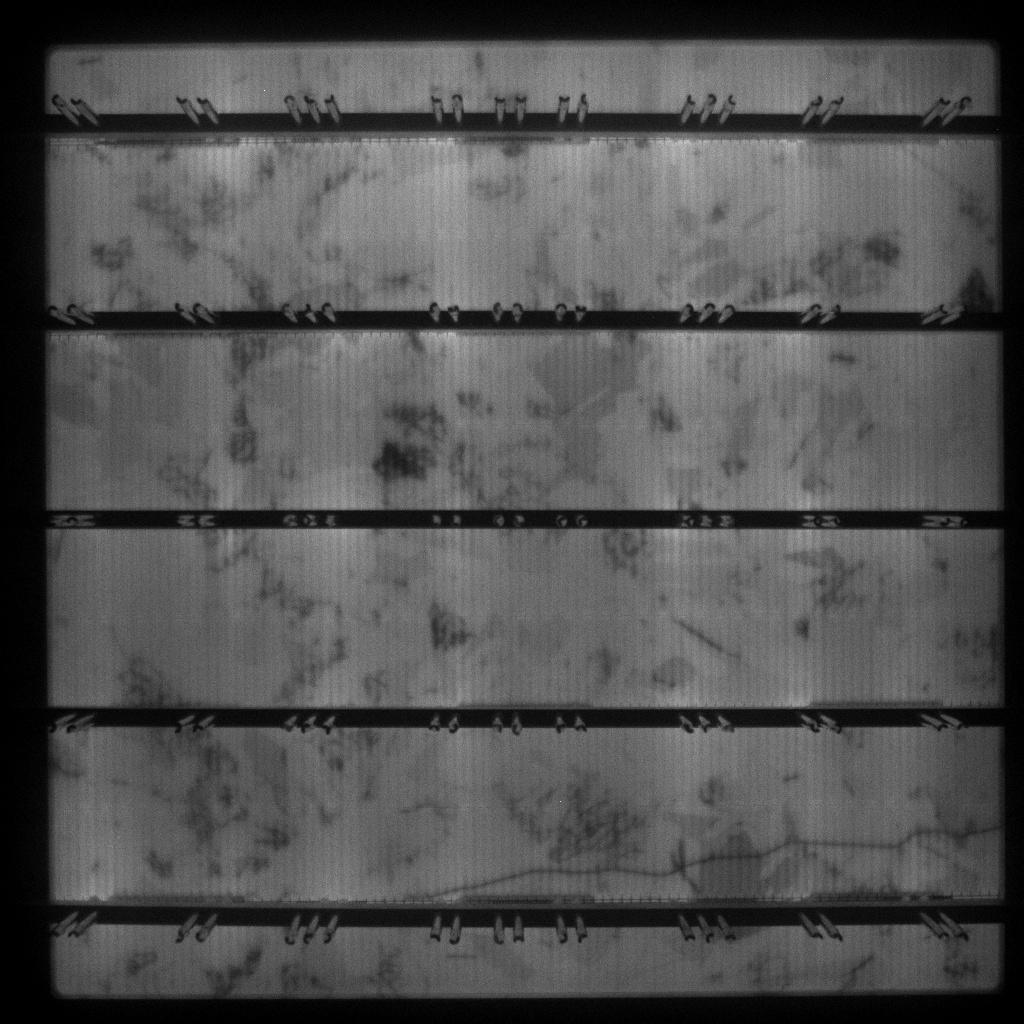crack: (431, 823, 1000, 894)
